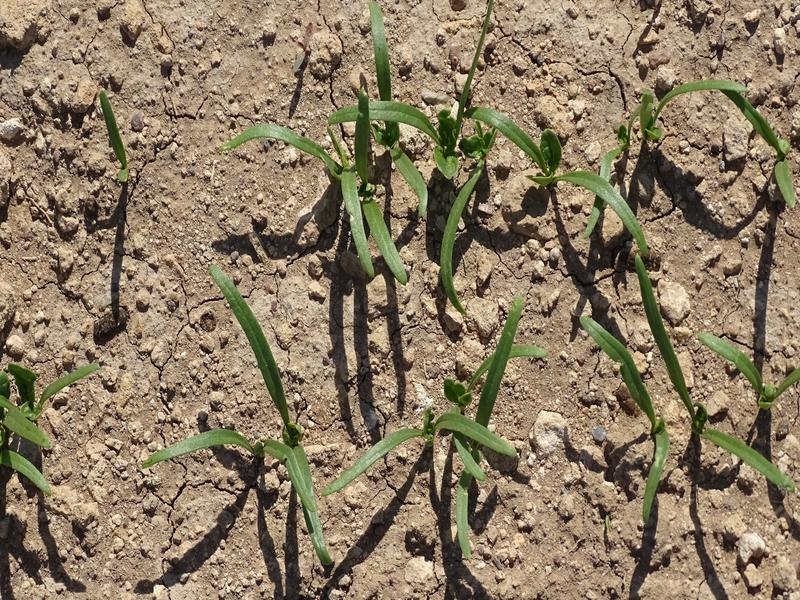Espinaca: (236, 11, 799, 271), (150, 269, 328, 566), (333, 296, 538, 553), (590, 278, 800, 528), (1, 355, 99, 495), (96, 88, 134, 180)
